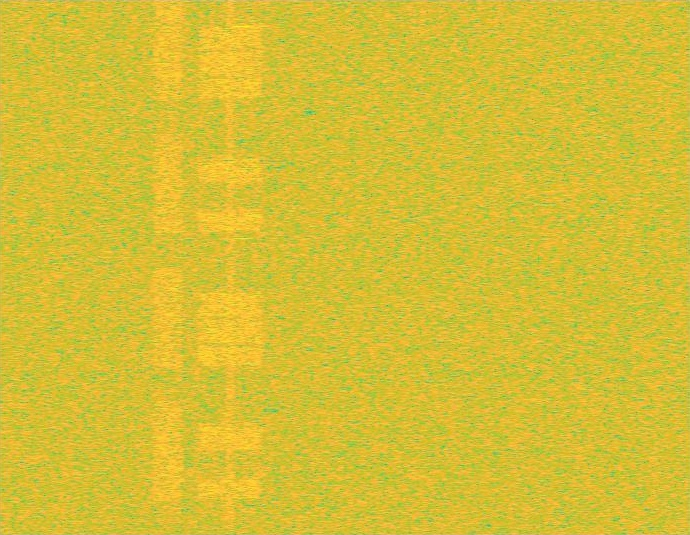5G: (151, 0, 185, 534)
DSSS: (226, 0, 235, 534)
LTE: (196, 0, 265, 534)
Radar: (236, 0, 250, 534)
